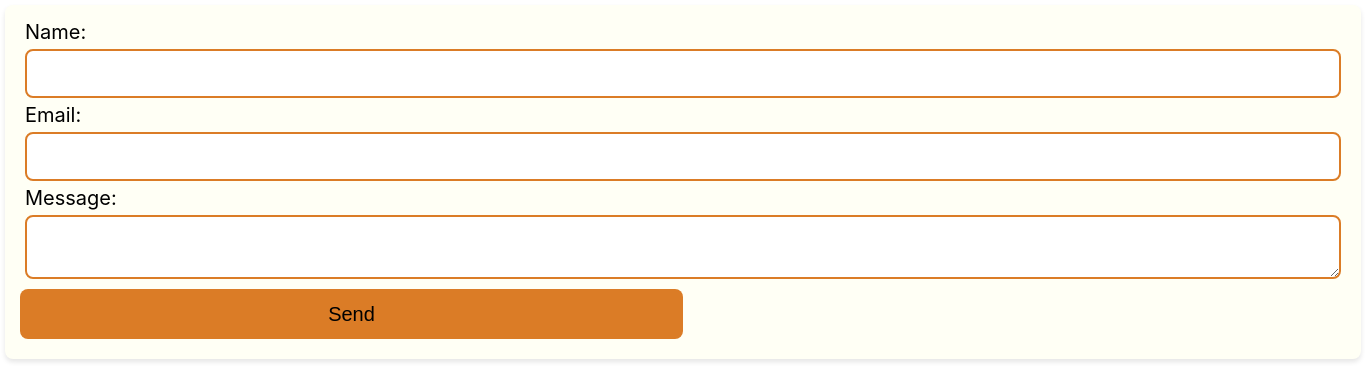
App test suite › should disable send button on valid submission
In the field labelled "Name:": coordinates (683, 74) 25,49 -> 1341,98, type "John Doe"
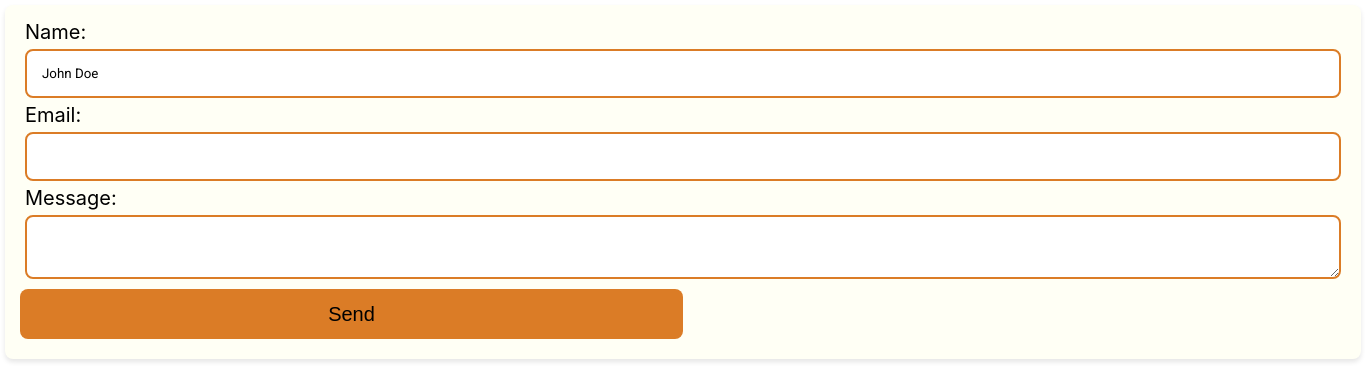
In the field labelled "Email:": coordinates (683, 156) 25,132 -> 1341,181, type "j.doe@email.com"
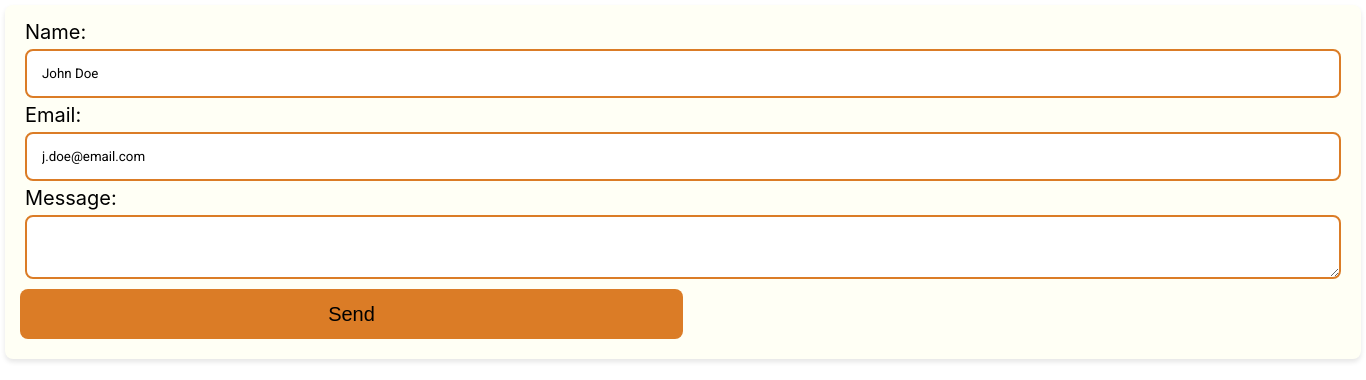
In the text box labelled "Message:": coordinates (683, 247) 25,215 -> 1341,279, type "Hi there, here is a message"
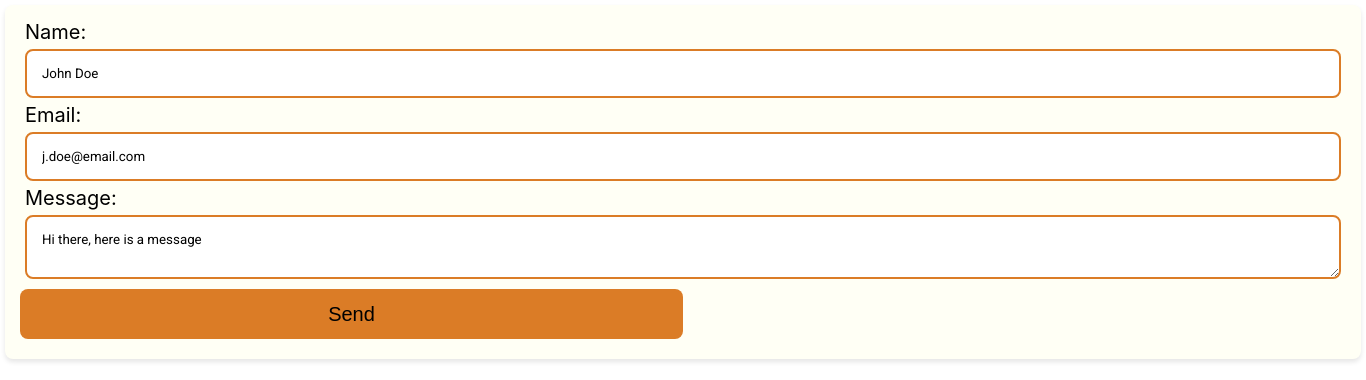
Submit the form from the button "Send", box 20,289 -> 683,339
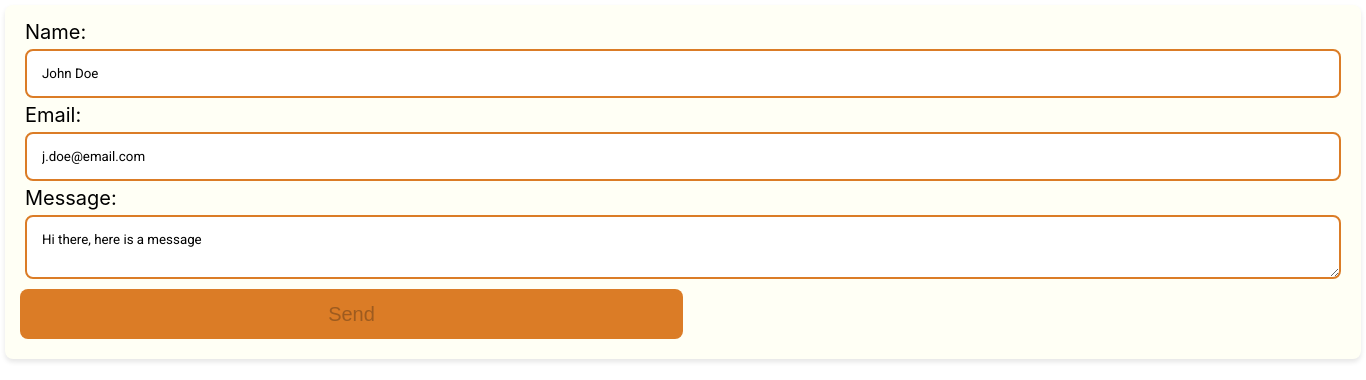
Expected: the button "Send" is disabled, 20,289 -> 683,339
